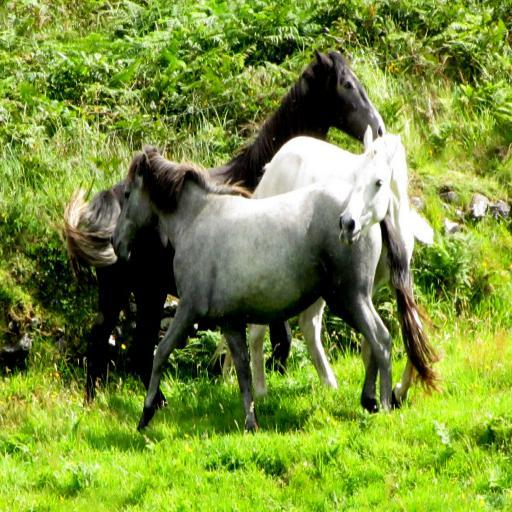Horse: (61, 48, 385, 408), (109, 140, 446, 432), (210, 123, 415, 409)
